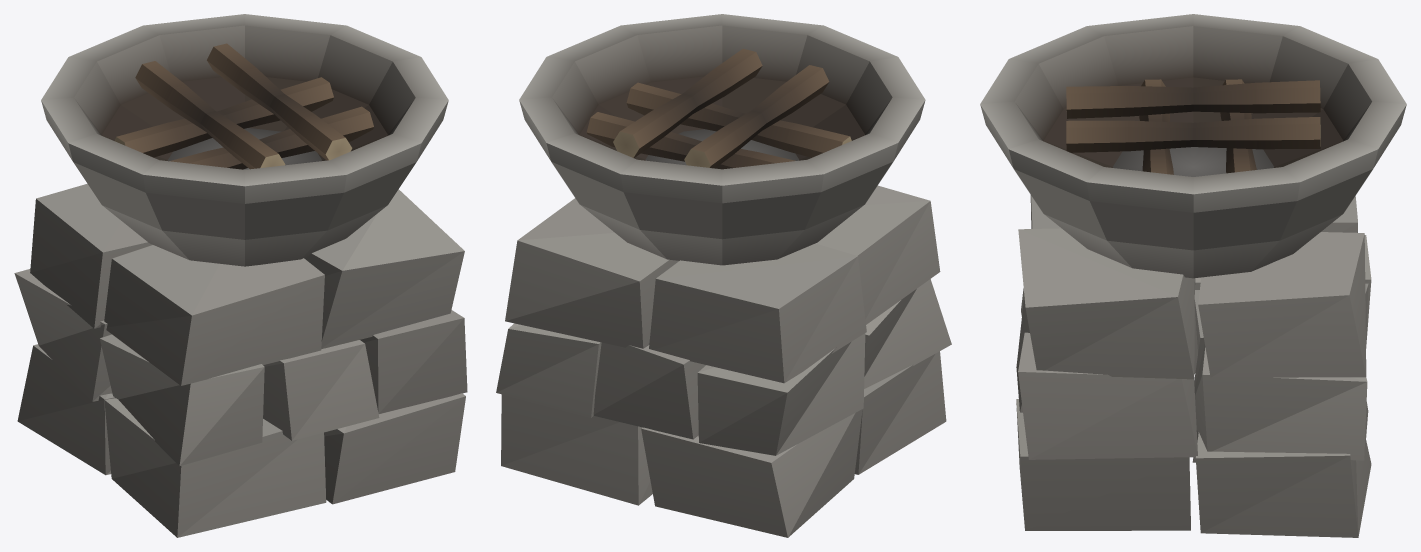
Rendered from brazier_a.glb.
3 views of the same model, side by side, from view 1: azimuth 30°, elevation 25°; view 2: azimuth 150°, elevation 25°; view 3: azimuth 270°, elevation 25° (orthographic). The views are drawn at different scales.
Parts seen in each view (by area): view 1: brazier_a; view 2: brazier_a; view 3: brazier_a.
Boxes of the visible parts, x1,y1,x2,y2 form: brazier_a: [14, 14, 467, 537]; brazier_a: [496, 14, 951, 537]; brazier_a: [980, 14, 1406, 537].
Bounding box in the file's own units: 0.74 × 0.695 × 0.74.
